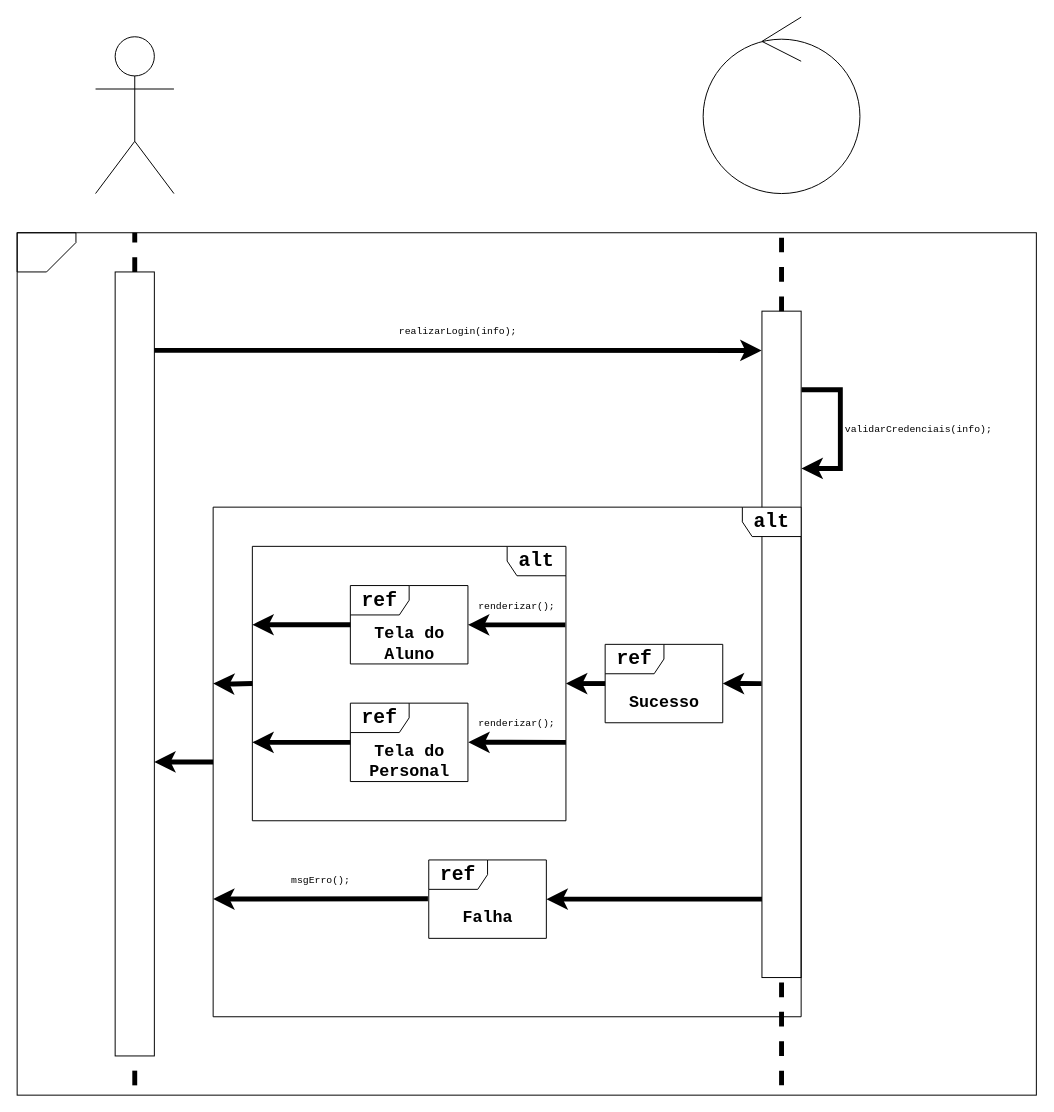
Image size: 1054x1112. Some labels were removed from this diagram. Here are the shapes that lost their labels. From the top down, the centre of each, then its label:
At (134,115): "Usuário".
At (781,105): "Sistema".
At (46,252): "LOOP".
